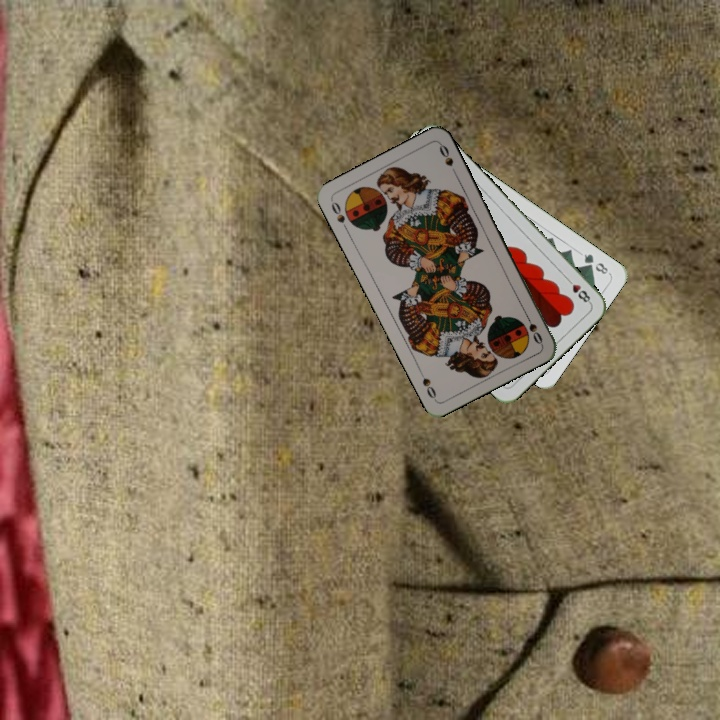G8: (580, 250, 612, 277)
H8: (562, 273, 593, 306)
SO: (521, 309, 545, 347), (327, 197, 351, 235)
